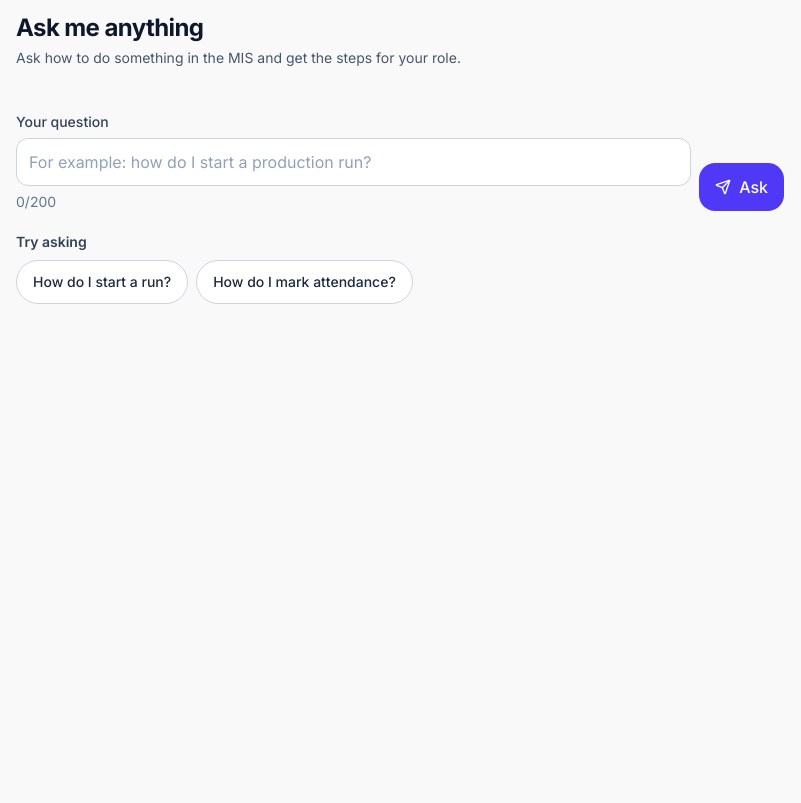
Test: AskScreen › allowed answer: green status, numbered steps, open button
Click the button "How do I start a run?".
click(102, 282)  # box [16,260,188,304]
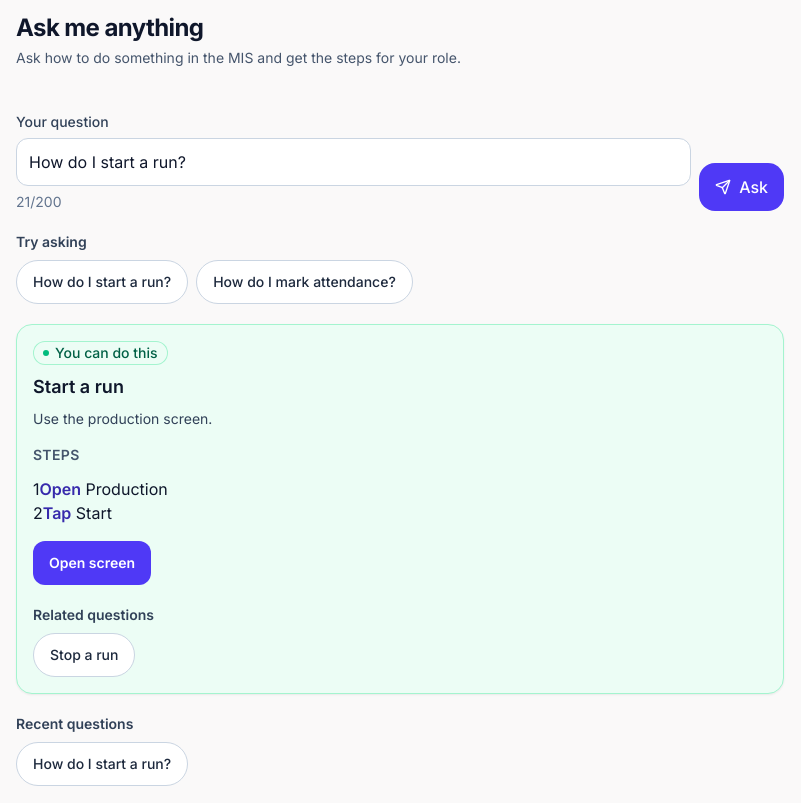
Expected: the text "You can do this" is shown, [33,341,168,365]
